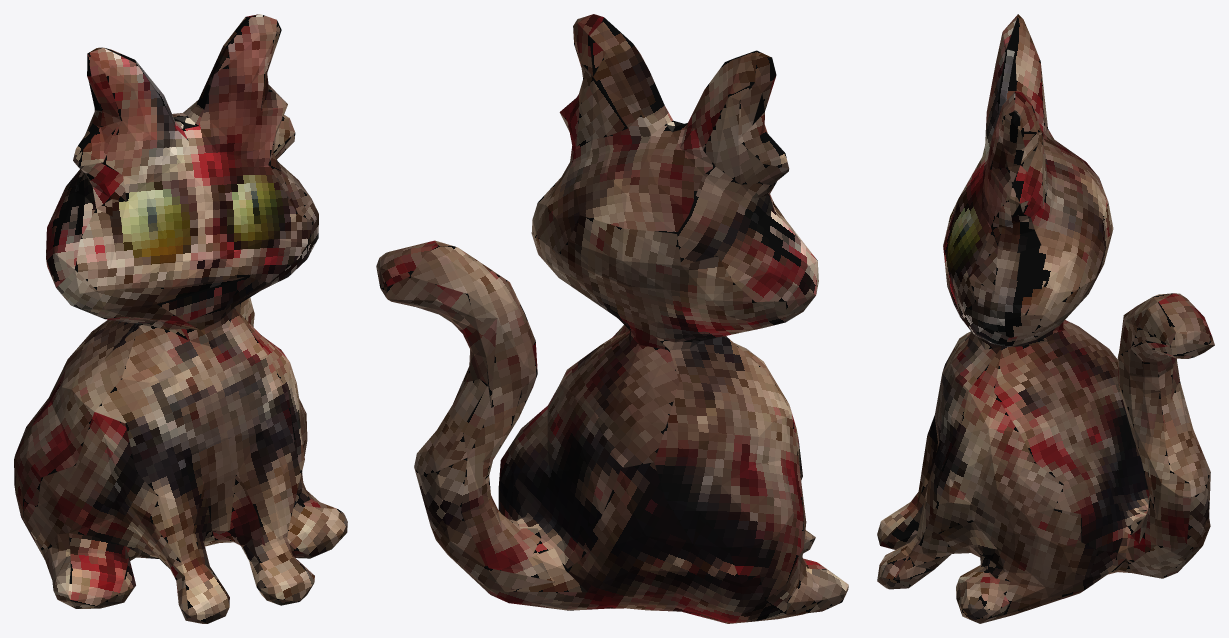
The model's file is cat_plushie.glb.
The picture shows the model from 3 angles, left to right: view 1: azimuth 30°, elevation 25°; view 2: azimuth 150°, elevation 25°; view 3: azimuth 270°, elevation 25°; orthographic projection. The views are drawn at different scales.
Visible parts, largest first — view 1: cat_plushie; view 2: cat_plushie; view 3: cat_plushie.
Part boxes in pixels (left/top/right/bottom): cat_plushie: left=14, top=14, right=347, bottom=623; cat_plushie: left=376, top=14, right=848, bottom=623; cat_plushie: left=877, top=14, right=1214, bottom=623.
Bounding box in the file's own units: 1.16 × 1.74 × 1.04.
Materials: 1 (1 with a texture image).
